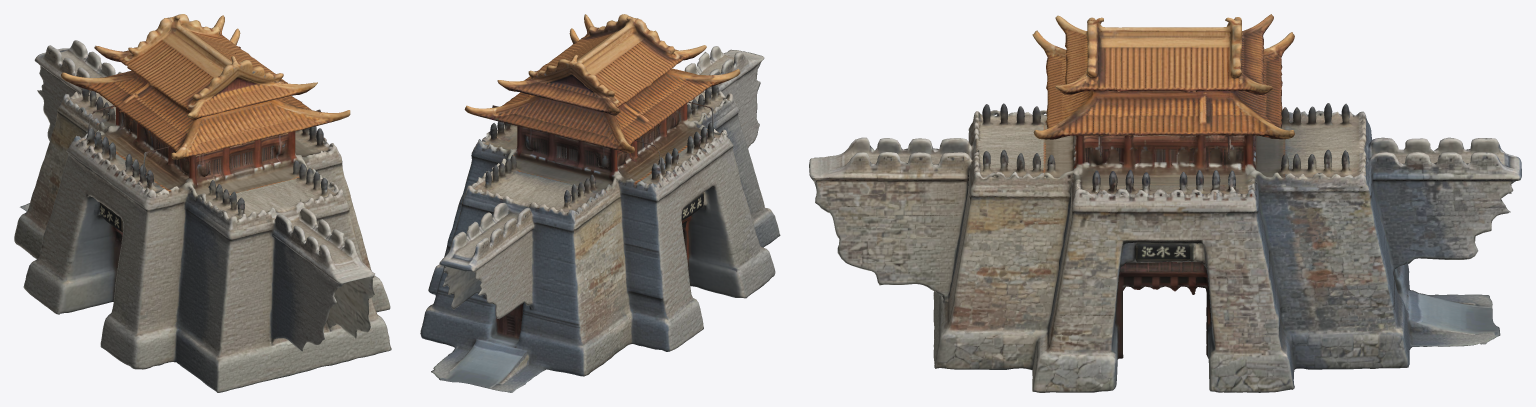
Rendered from gate-south.fbx.
The picture shows the model from 3 angles, left to right: view 1: azimuth 30°, elevation 25°; view 2: azimuth 150°, elevation 25°; view 3: azimuth 270°, elevation 25°; orthographic projection. The views are drawn at different scales.
Parts seen in each view (by area): view 1: tripo_node_eb8c85ca; view 2: tripo_node_eb8c85ca; view 3: tripo_node_eb8c85ca.
Part boxes in pixels (left/top/right/bottom): tripo_node_eb8c85ca: left=14, top=14, right=391, bottom=392; tripo_node_eb8c85ca: left=420, top=14, right=780, bottom=392; tripo_node_eb8c85ca: left=809, top=14, right=1521, bottom=392.
Bounding box in the file's own units: 47.01 × 45.96 × 97.87.
Materials: 1 (1 with a texture image).
